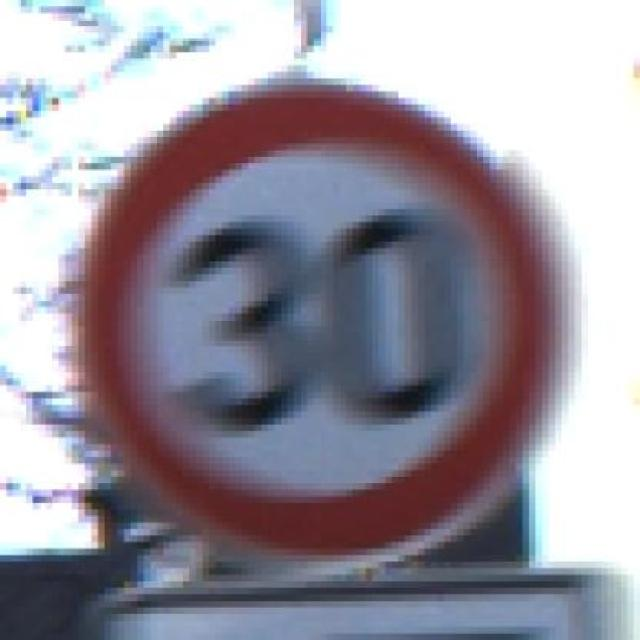Speed Limit 30 KMPh: (39, 64, 595, 582)
